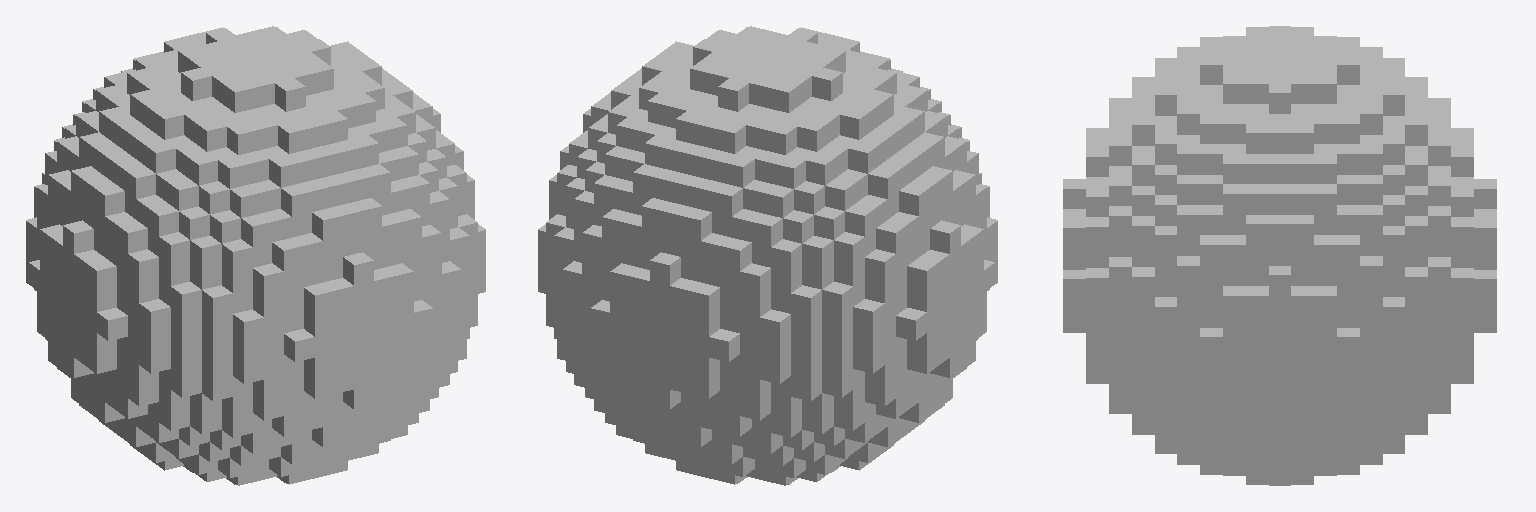
The model's file is ball.obj.
The picture shows the model from 3 angles: view 1: azimuth 30°, elevation 25°; view 2: azimuth 150°, elevation 25°; view 3: azimuth 270°, elevation 25°; orthographic projection.
Bounding box in the file's own units: 19 × 19 × 19.